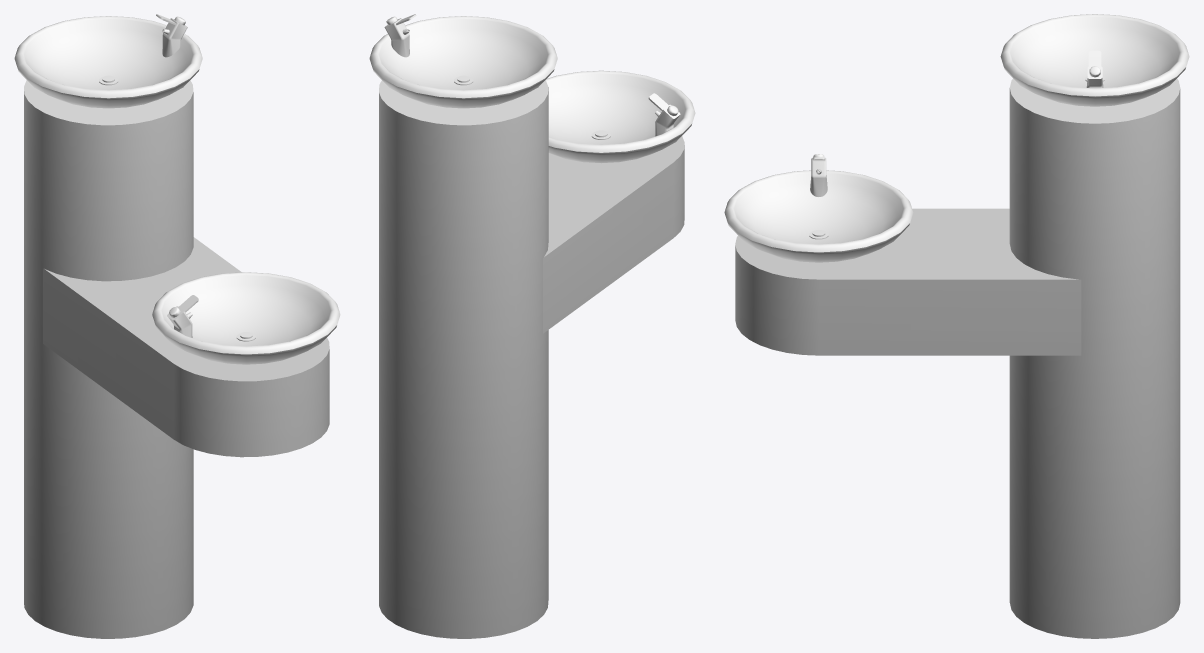
The model's file is drinking_fountain_01.glb.
3 views of the same model, side by side, from view 1: azimuth 30°, elevation 25°; view 2: azimuth 150°, elevation 25°; view 3: azimuth 270°, elevation 25° (orthographic).
Visible parts, largest first — view 1: drinking_fountain_01; view 2: drinking_fountain_01; view 3: drinking_fountain_01.
Boxes of the visible parts, box(x1,y1,x2,y2) form: drinking_fountain_01: box(14, 14, 340, 638); drinking_fountain_01: box(369, 14, 695, 638); drinking_fountain_01: box(724, 14, 1189, 638).
Size of the model in its own units: 0.3323 by 1.12 by 0.8181.
2 materials, 2 textured.
